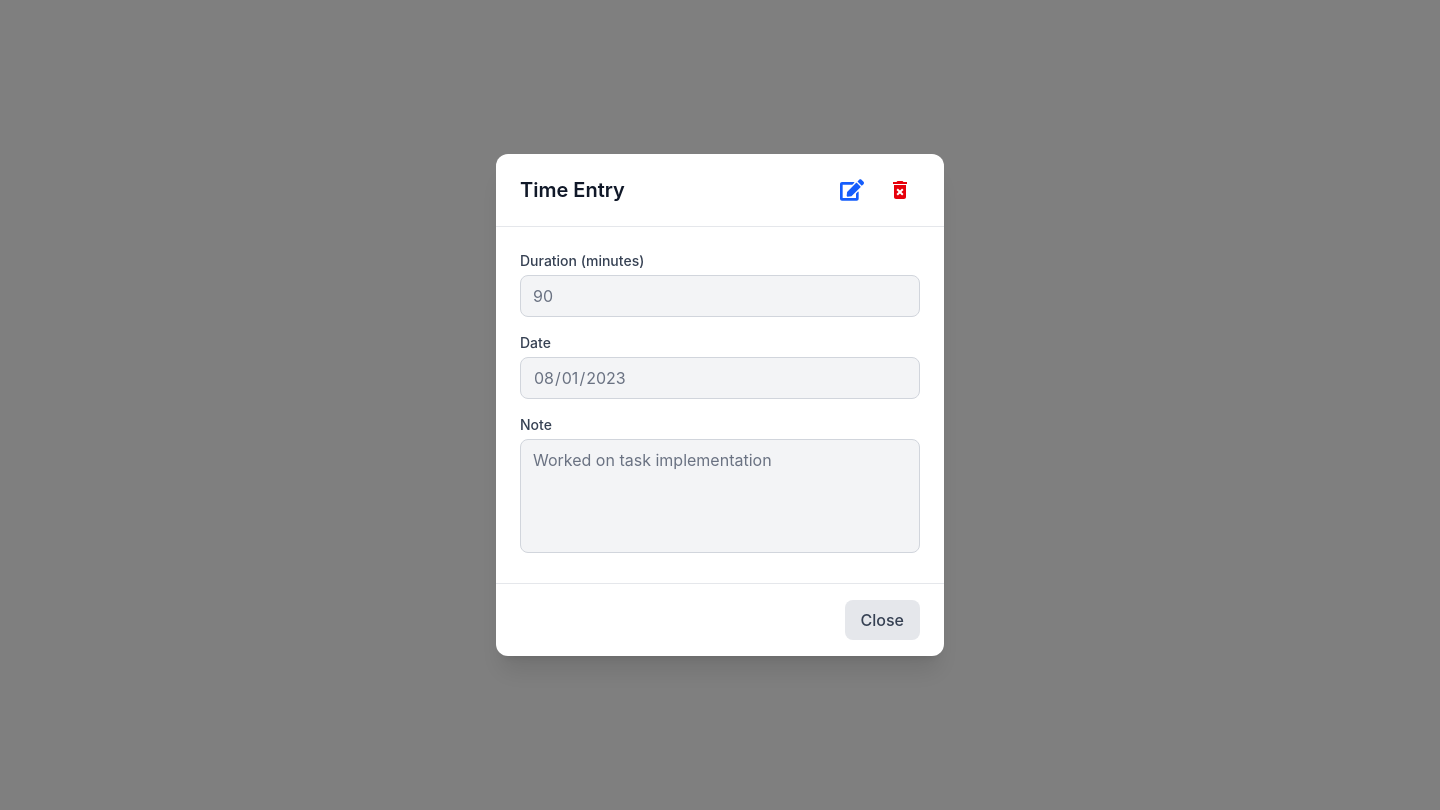
Test: TimeEntryManageModal › edit mode › should switch to edit mode when the edit button is clicked
Click the 1st button: coordinates (852, 190) left=832, top=170, right=872, bottom=210
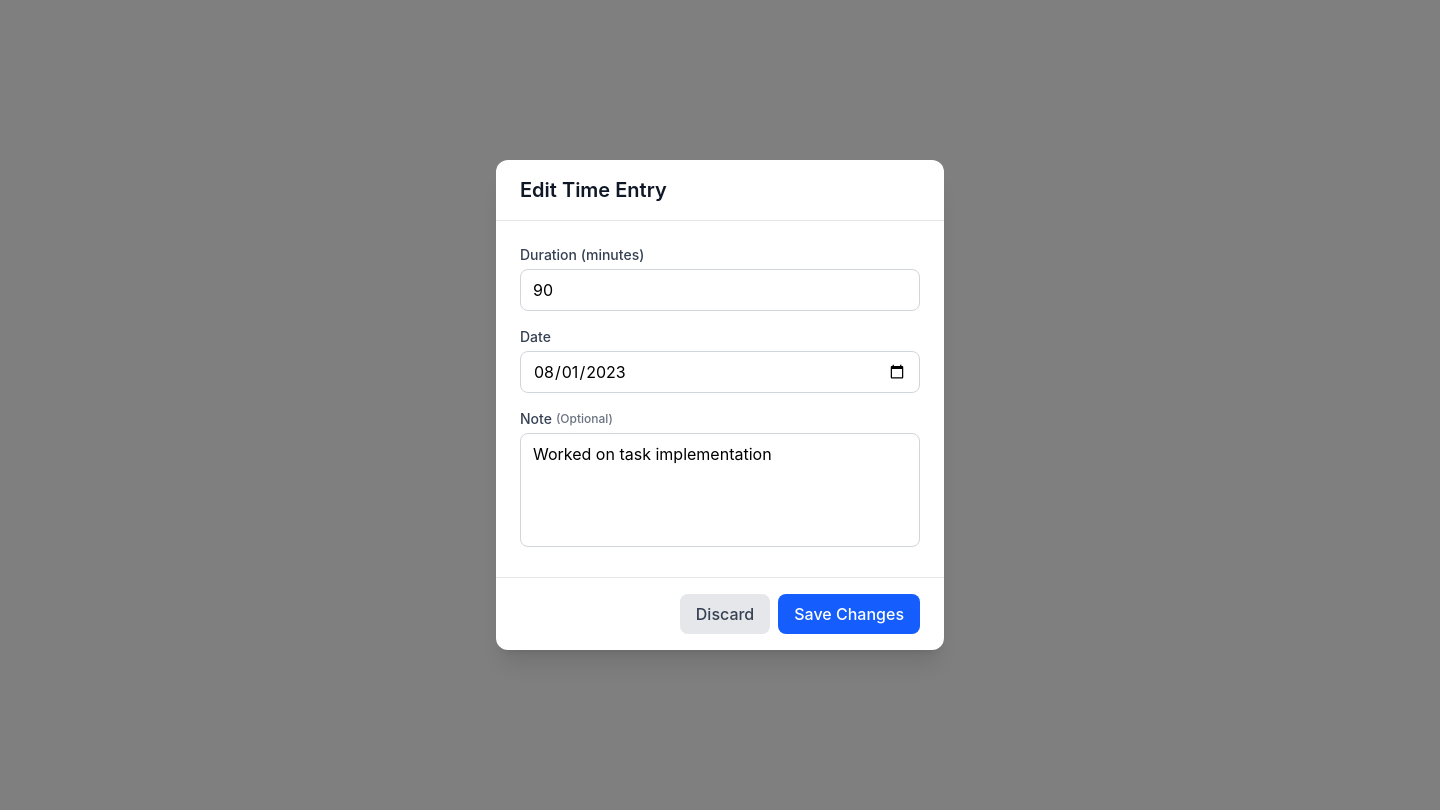
Expected: the heading "Edit Time Entry" is shown, left=520, top=176, right=667, bottom=204
Expected: the button "Save Changes" is shown, left=778, top=594, right=920, bottom=634
Expected: the button "Discard" is shown, left=680, top=594, right=770, bottom=634
